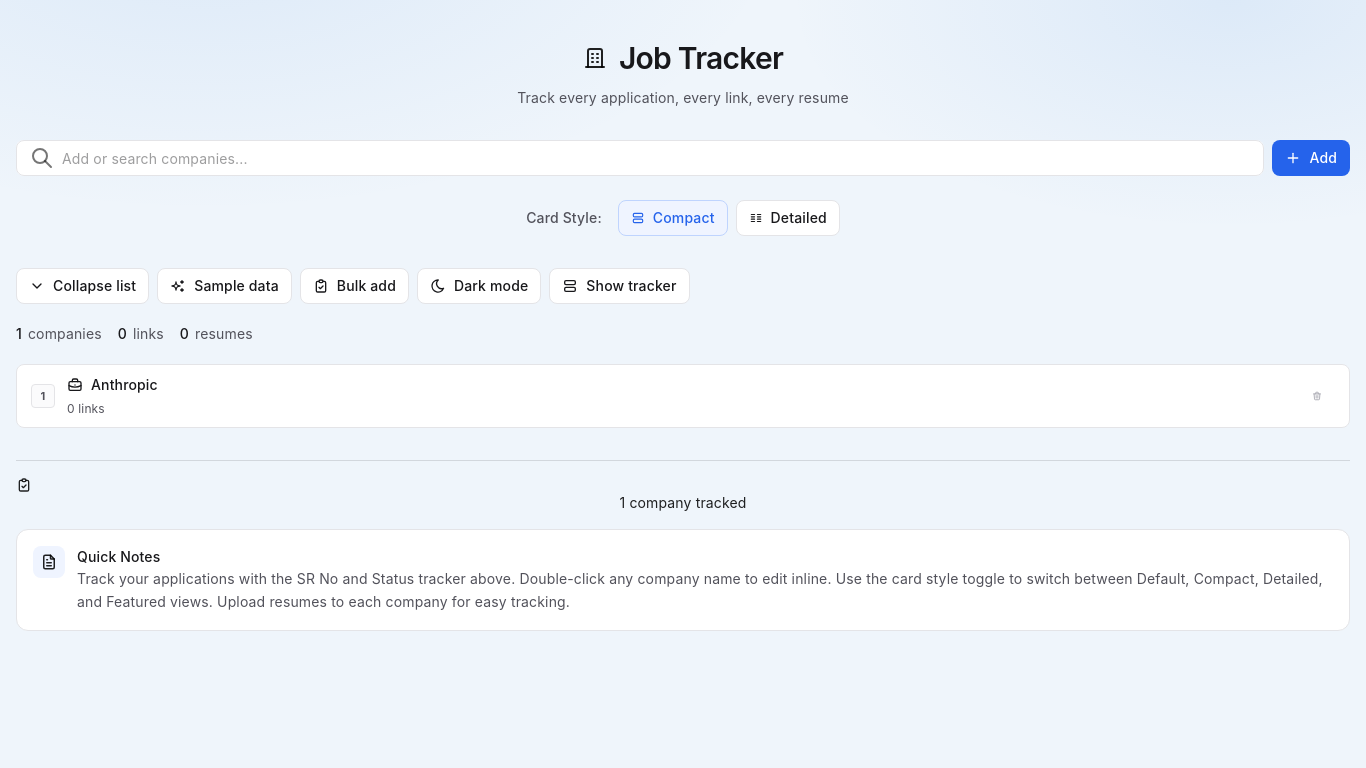
Test: dashboard — sample data and the Status / Priority columns › shows Status and Priority column headers
The image size is (1366, 768).
What coordinates should you click on to do the following:
click the button "Show tracker"
I would click on:
 (619, 286)
Its box is [549,268,690,304].
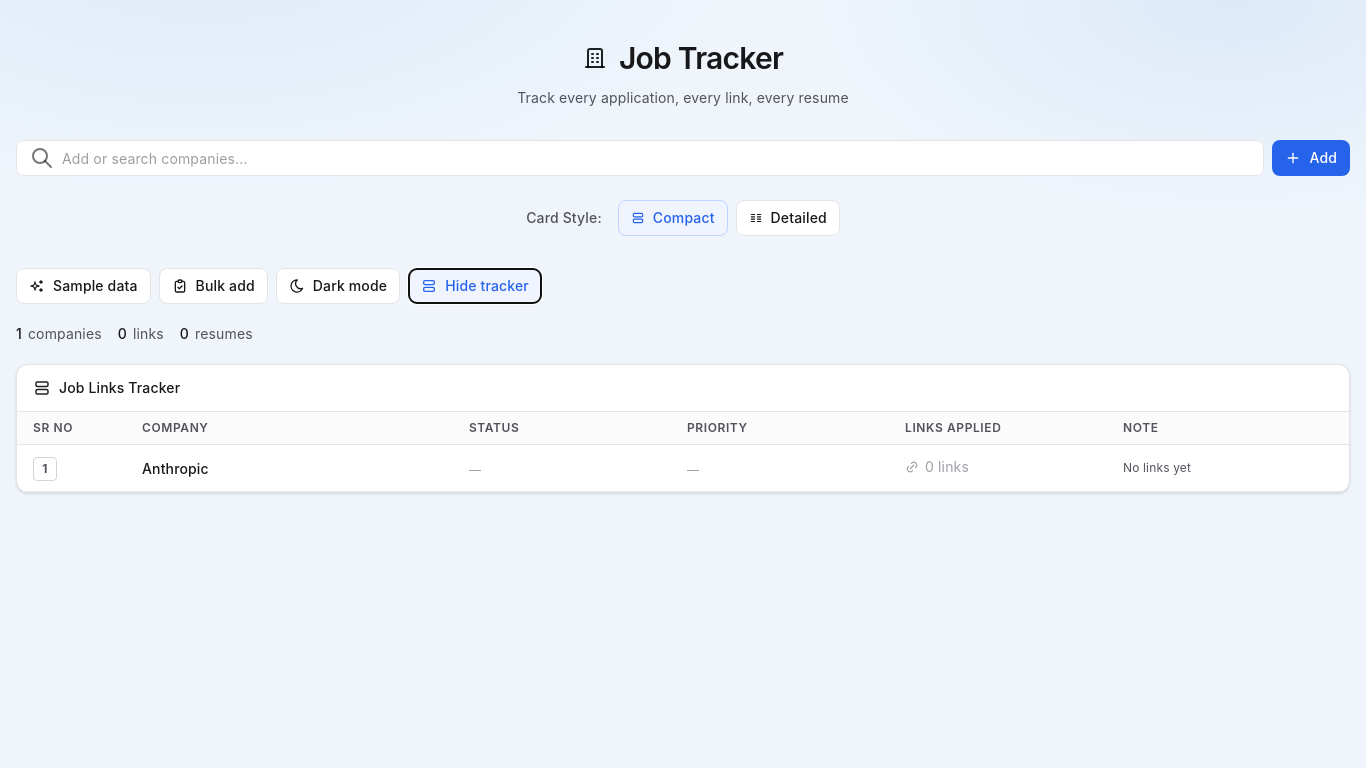
Expected: the heading "Job Links Tracker" is shown, [59,377,180,399]
Expected: the element with class "grid-cols-12" shows "Status", [469,420,519,435]
Expected: the element with class "grid-cols-12" shows "Priority", [687,420,748,435]
